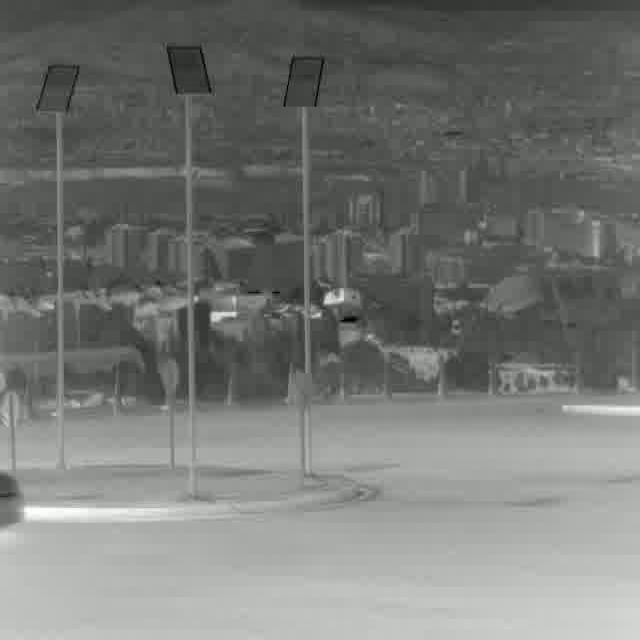Car: (0, 471, 25, 532)
